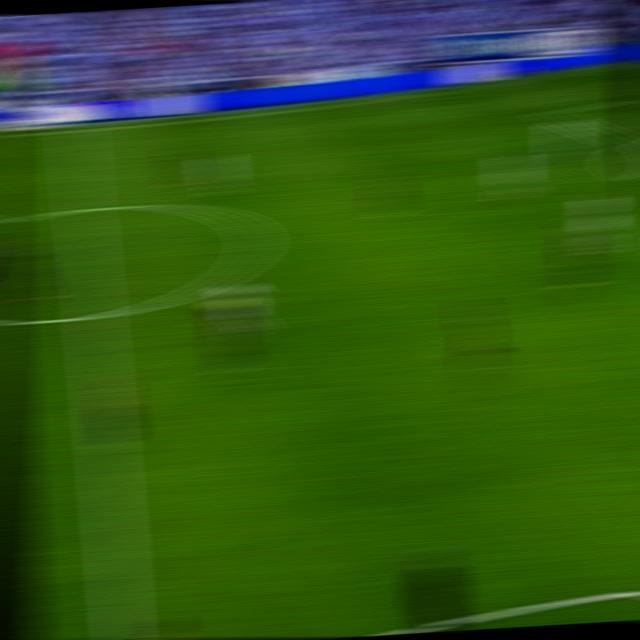bigarea_bottom_outter: (618, 134, 640, 150)
halfcircle_bottom: (76, 296, 112, 333)
halfcircle_top: (67, 192, 101, 226)
midline_top_intersection: (61, 125, 91, 142)
